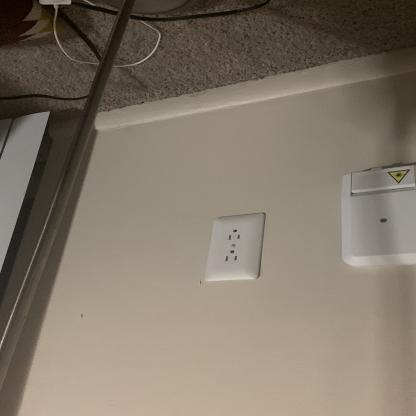OUTLET: (204, 211, 268, 282)
